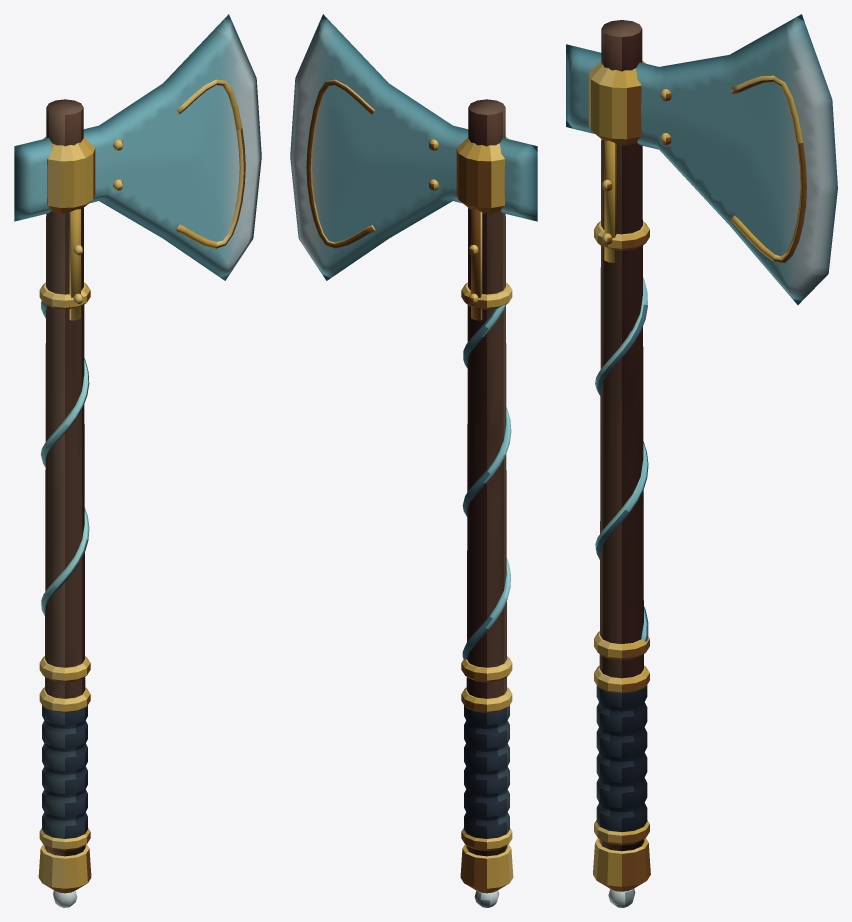
The model's file is tl_axe_mithril.glb.
3 renders of one model, left to right at view 1: azimuth 30°, elevation 25°; view 2: azimuth 150°, elevation 25°; view 3: azimuth 330°, elevation 25°, orthographic. The views are drawn at different scales.
Visible parts, largest first — view 1: Weapon; view 2: Weapon; view 3: Weapon.
Boxes of the visible parts, bbox=[...] form: Weapon: bbox=[14, 14, 261, 907]; Weapon: bbox=[290, 14, 537, 907]; Weapon: bbox=[566, 14, 837, 907].
Size of the model in its own units: 0.292 by 0.961 by 0.0635.
